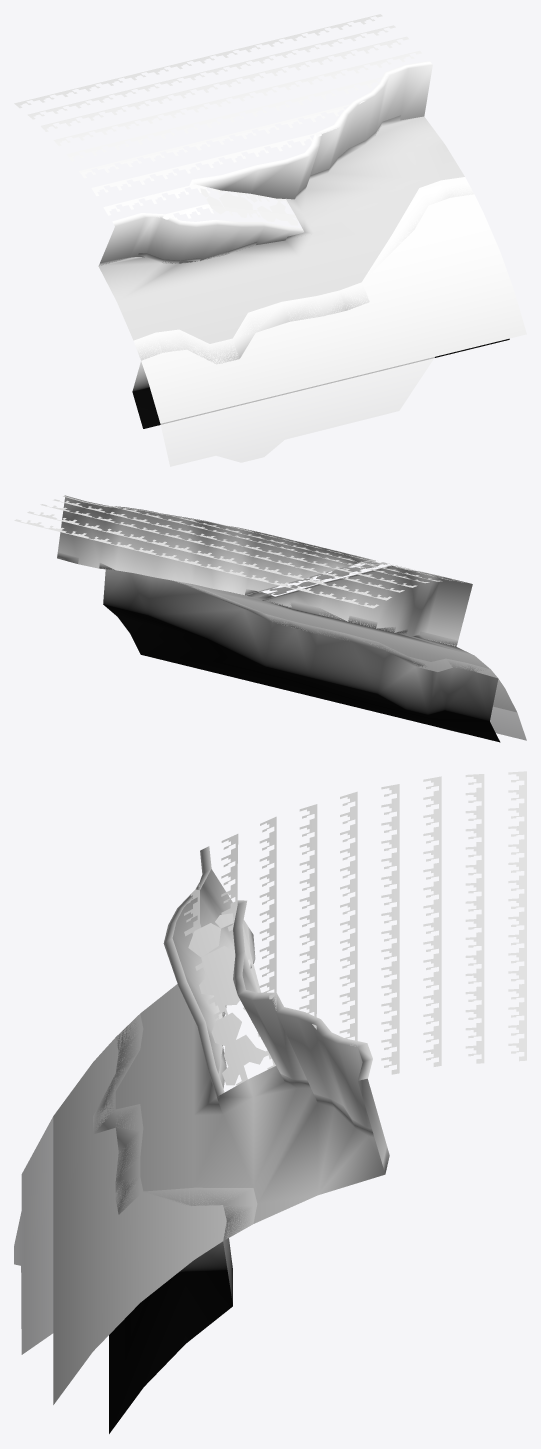
The model's file is grd_Mse_s_S_1.dae.
The picture shows the model from 3 angles, top to bottom: view 1: azimuth 30°, elevation 25°; view 2: azimuth 150°, elevation 25°; view 3: azimuth 270°, elevation 25°; orthographic projection. The views are drawn at different scales.
Visible parts, largest first — view 1: grd_Mse_s_S_1; view 2: grd_Mse_s_S_1; view 3: grd_Mse_s_S_1.
Boxes of the visible parts, x1,y1,x2,y2 form: grd_Mse_s_S_1: [14, 14, 526, 466]; grd_Mse_s_S_1: [14, 495, 526, 742]; grd_Mse_s_S_1: [14, 771, 526, 1433].
Bounding box in the file's own units: 512 × 347 × 384.
Materials: 7 (1 with a texture image).
